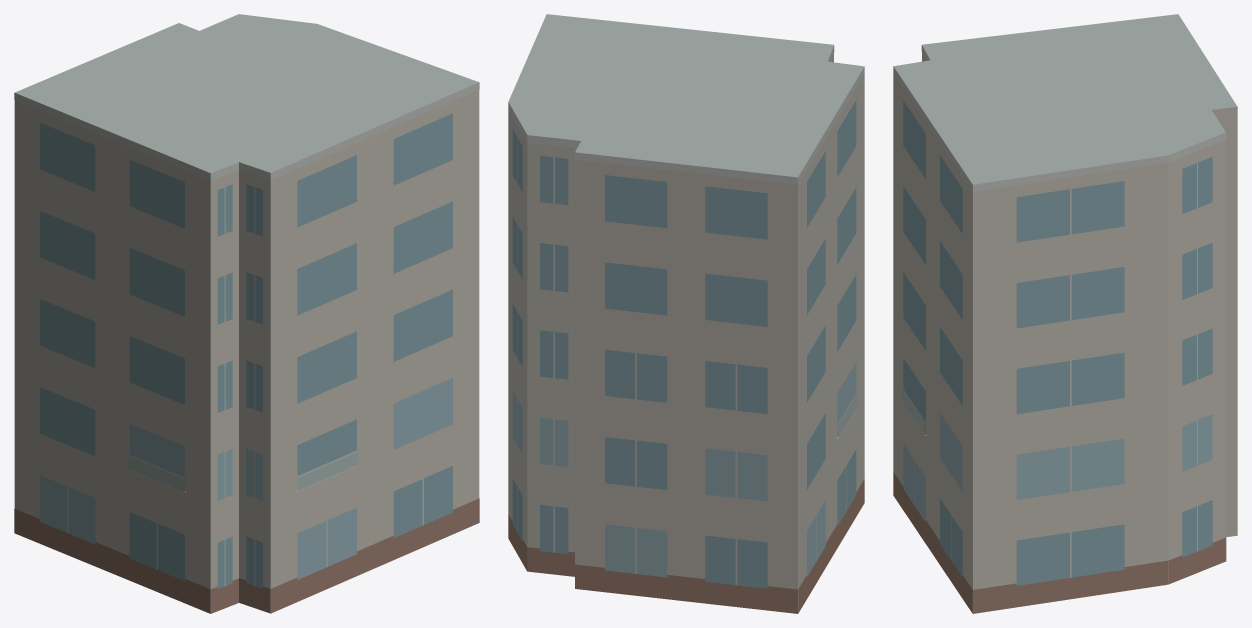
Rendered from survey-upis-32645791.glb.
3 renders of one model, left to right at view 1: azimuth 30°, elevation 25°; view 2: azimuth 150°, elevation 25°; view 3: azimuth 270°, elevation 25°, orthographic. The views are drawn at different scales.
Parts seen in each view (by area): view 1: survey-upis-32645791.tmp; view 2: survey-upis-32645791.tmp; view 3: survey-upis-32645791.tmp.
Part boxes in pixels (x1=…): survey-upis-32645791.tmp: x1=14, y1=14, x2=479, y2=613; survey-upis-32645791.tmp: x1=508, y1=14, x2=864, y2=613; survey-upis-32645791.tmp: x1=893, y1=14, x2=1237, y2=613.
Bounding box in the file's own units: 12.38 × 14.5 × 10.55.
